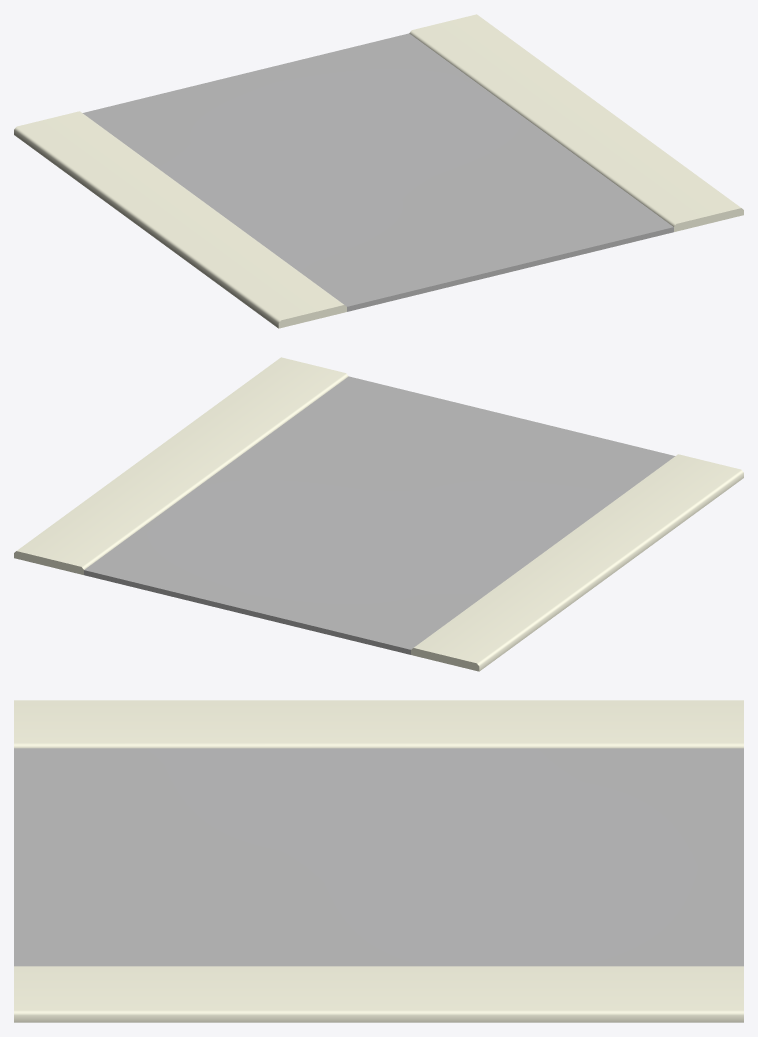
The model's file is Town_3_Path_1.glb.
3 views of the same model, one above another, from view 1: azimuth 30°, elevation 25°; view 2: azimuth 150°, elevation 25°; view 3: azimuth 270°, elevation 25° (orthographic). The views are drawn at different scales.
Visible parts, largest first — view 1: Town_3_Path_1; view 2: Town_3_Path_1; view 3: Town_3_Path_1.
Part boxes in pixels (box(x1,y1,x2,y2)): Town_3_Path_1: box(14, 14, 743, 328); Town_3_Path_1: box(14, 357, 743, 671); Town_3_Path_1: box(14, 700, 743, 1022).
Bounding box in the file's own units: 4.33 × 0.0686 × 4.26.
1 material, 1 textured.
